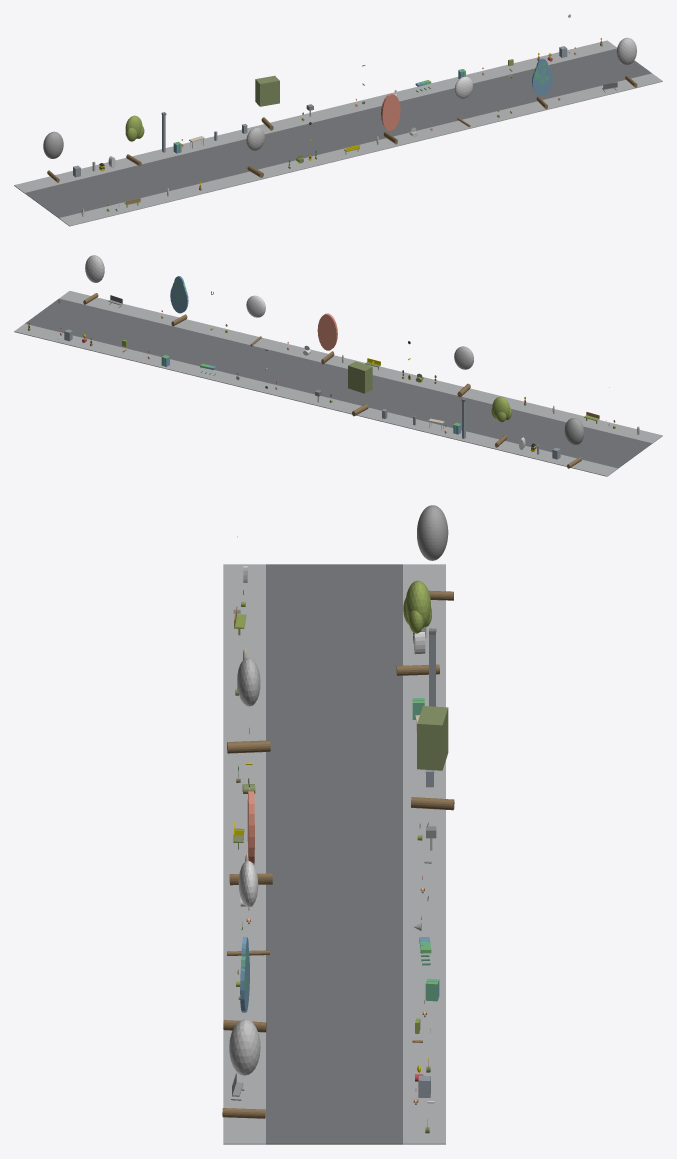
The picture shows the model from 3 angles, top to bottom: view 1: azimuth 30°, elevation 25°; view 2: azimuth 150°, elevation 25°; view 3: azimuth 270°, elevation 25°; orthographic projection. The views are drawn at different scales.
Parts seen in each view (by area): view 1: road_slab, sidewalk_left, sidewalk_right, inst_0021, inst_0022, inst_0024, inst_0025, inst_0018, inst_0019, inst_0020, inst_0023; view 2: road_slab, sidewalk_right, sidewalk_left, inst_0021, inst_0022, inst_0024, inst_0025, inst_0018, inst_0019, inst_0020, inst_0023; view 3: road_slab, sidewalk_right, sidewalk_left, inst_0021, inst_0025, inst_0018, inst_0019, inst_0020, inst_0023, inst_0024.
Boxes of the visible parts, box(x1,y1,x2,y2) form: road_slab: box(24, 48, 651, 218); sidewalk_left: box(59, 73, 662, 226); sidewalk_right: box(14, 40, 616, 193); inst_0021: box(255, 75, 279, 130); inst_0022: box(381, 93, 400, 144); inst_0024: box(532, 58, 552, 109); inst_0025: box(616, 37, 637, 87); inst_0018: box(43, 131, 63, 182); inst_0019: box(125, 115, 144, 166); inst_0020: box(246, 127, 264, 177); inst_0023: box(454, 76, 472, 127); road_slab: box(25, 298, 652, 468); sidewalk_right: box(14, 323, 617, 476); sidewalk_left: box(59, 291, 662, 443); inst_0021: box(348, 361, 372, 416); inst_0022: box(317, 313, 337, 364); inst_0024: box(170, 276, 188, 326); inst_0025: box(83, 255, 104, 304); inst_0018: box(564, 418, 584, 468); inst_0019: box(491, 396, 511, 447); inst_0020: box(454, 346, 473, 397); inst_0023: box(246, 295, 265, 346); road_slab: box(266, 564, 402, 1144); sidewalk_right: box(403, 564, 445, 1144); sidewalk_left: box(223, 564, 265, 1144); inst_0021: box(411, 706, 454, 810); inst_0025: box(222, 1019, 265, 1118); inst_0018: box(417, 505, 453, 600); inst_0019: box(396, 580, 439, 675); inst_0020: box(227, 657, 270, 753); inst_0023: box(227, 860, 269, 955); inst_0024: box(223, 937, 266, 1032).
Size of the model in its own units: 80 by 6.08 by 13.55.
